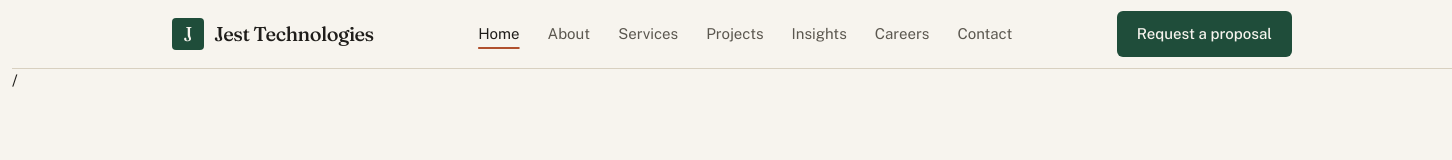
Test case: Navbar › navigates when a link is clicked
The width and height of the screenshot is (1452, 160).
Click the link "Services": click(648, 33) [618,25,678,42]
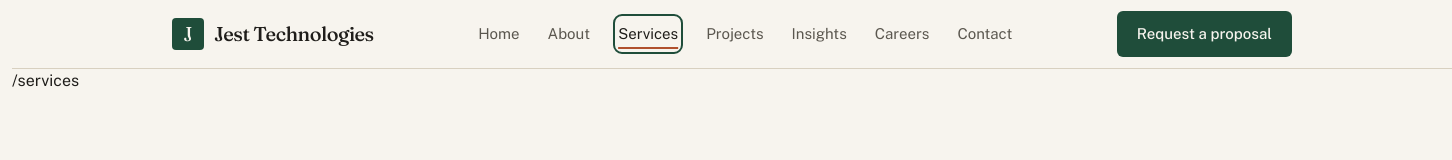
expect the text with test id "where" reads "/services": met, box [12,71,79,90]
